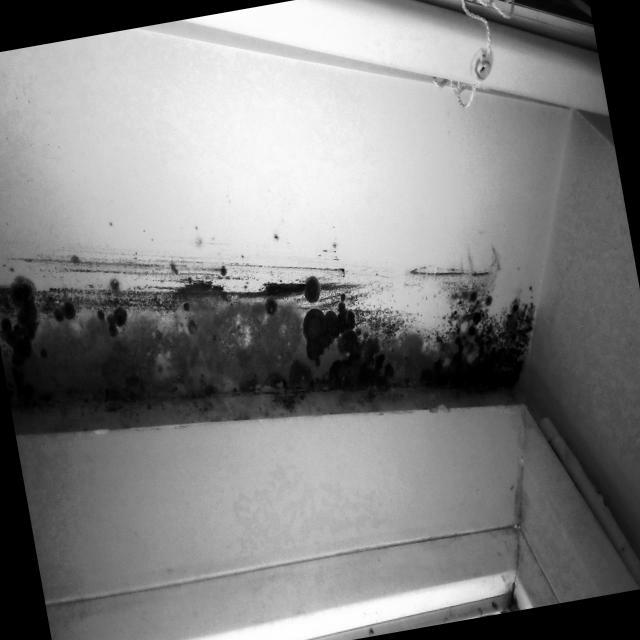stain marks: (0, 216, 549, 453)
